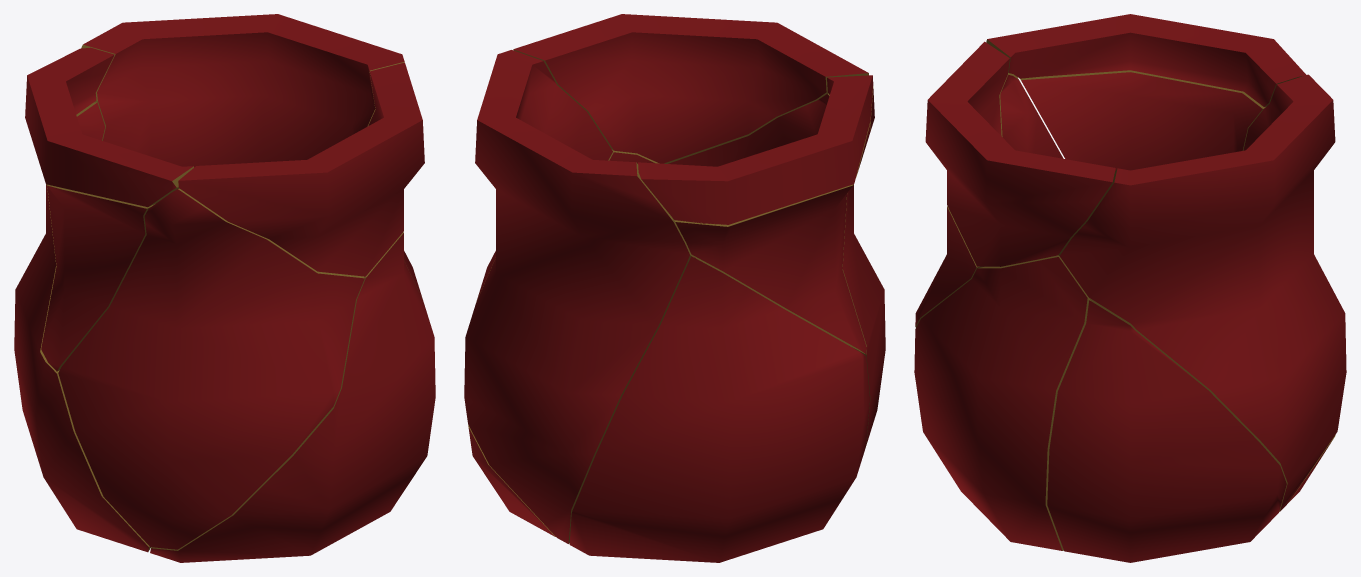
Rendered from Pot_cell.glb.
3 views of the same model, side by side, from view 1: azimuth 30°, elevation 25°; view 2: azimuth 150°, elevation 25°; view 3: azimuth 270°, elevation 25° (orthographic).
Visible parts, largest first — view 1: Pot_cell.002_rigid, Pot_cell.003_rigid, Pot_cell.004_rigid, Pot_cell.007_rigid, Pot_cell.006_rigid, Pot_cell_rigid, Pot_cell.001_rigid; view 2: Pot_cell.003_rigid, Pot_cell.006_rigid, Pot_cell.007_rigid, Pot_cell.001_rigid, Pot_cell_rigid, Pot_cell.002_rigid, Pot_cell.005_rigid; view 3: Pot_cell.003_rigid, Pot_cell.005_rigid, Pot_cell.004_rigid, Pot_cell.007_rigid, Pot_cell.001_rigid, Pot_cell_rigid, Pot_cell.002_rigid.
Part boxes in pixels (x1=…): Pot_cell.002_rigid: x1=58, y1=188, x2=364, y2=549; Pot_cell.003_rigid: x1=81, y1=14, x2=404, y2=167; Pot_cell.004_rigid: x1=150, y1=232, x2=435, y2=562; Pot_cell.007_rigid: x1=178, y1=62, x2=424, y2=276; Pot_cell.006_rigid: x1=14, y1=184, x2=150, y2=552; Pot_cell_rigid: x1=25, y1=47, x2=193, y2=207; Pot_cell.001_rigid: x1=41, y1=102, x2=154, y2=371; Pot_cell.003_rigid: x1=464, y1=50, x2=694, y2=543; Pot_cell.006_rigid: x1=569, y1=256, x2=869, y2=562; Pot_cell.007_rigid: x1=513, y1=14, x2=868, y2=163; Pot_cell.001_rigid: x1=674, y1=123, x2=870, y2=354; Pot_cell_rigid: x1=638, y1=75, x2=873, y2=224; Pot_cell.002_rigid: x1=668, y1=86, x2=885, y2=445; Pot_cell.005_rigid: x1=468, y1=251, x2=555, y2=536; Pot_cell.003_rigid: x1=1057, y1=74, x2=1346, y2=511; Pot_cell.005_rigid: x1=1047, y1=300, x2=1286, y2=562; Pot_cell.004_rigid: x1=914, y1=255, x2=1088, y2=550; Pot_cell.007_rigid: x1=925, y1=41, x2=1115, y2=266; Pot_cell.001_rigid: x1=1020, y1=70, x2=1265, y2=171; Pot_cell_rigid: x1=986, y1=14, x2=1306, y2=106; Pot_cell.002_rigid: x1=915, y1=73, x2=1063, y2=327.
Size of the model in its own units: 0.5 by 0.5 by 0.5.
